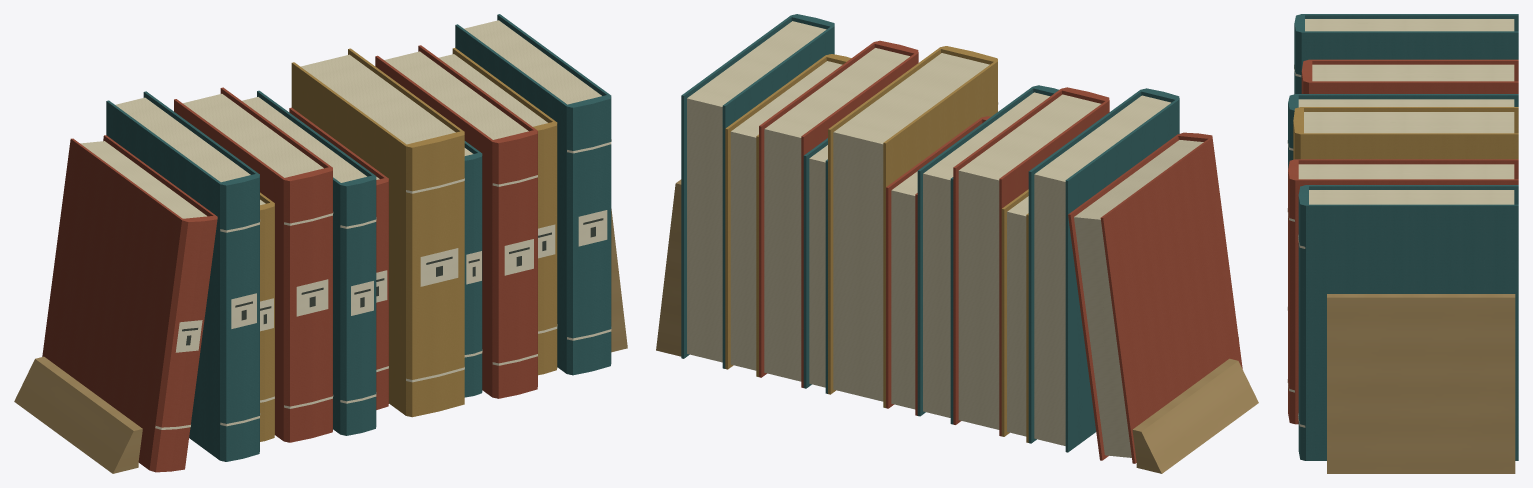
File: AST-LIB-006_upright_book_group.glb
3 renders of one model, left to right at view 1: azimuth 30°, elevation 25°; view 2: azimuth 150°, elevation 25°; view 3: azimuth 270°, elevation 25°, orthographic. The views are drawn at different scales.
Parts seen in each view (by area): view 1: AST-LIB-006_static_visual; view 2: AST-LIB-006_static_visual; view 3: AST-LIB-006_static_visual.
Part boxes in pixels (<box>): AST-LIB-006_static_visual: <box>14,14,627,473</box>; AST-LIB-006_static_visual: <box>656,14,1258,473</box>; AST-LIB-006_static_visual: <box>1287,14,1518,473</box>.
Bounding box in the file's own units: 0.5419 × 0.278 × 0.2207.
7 materials, 7 textured.
